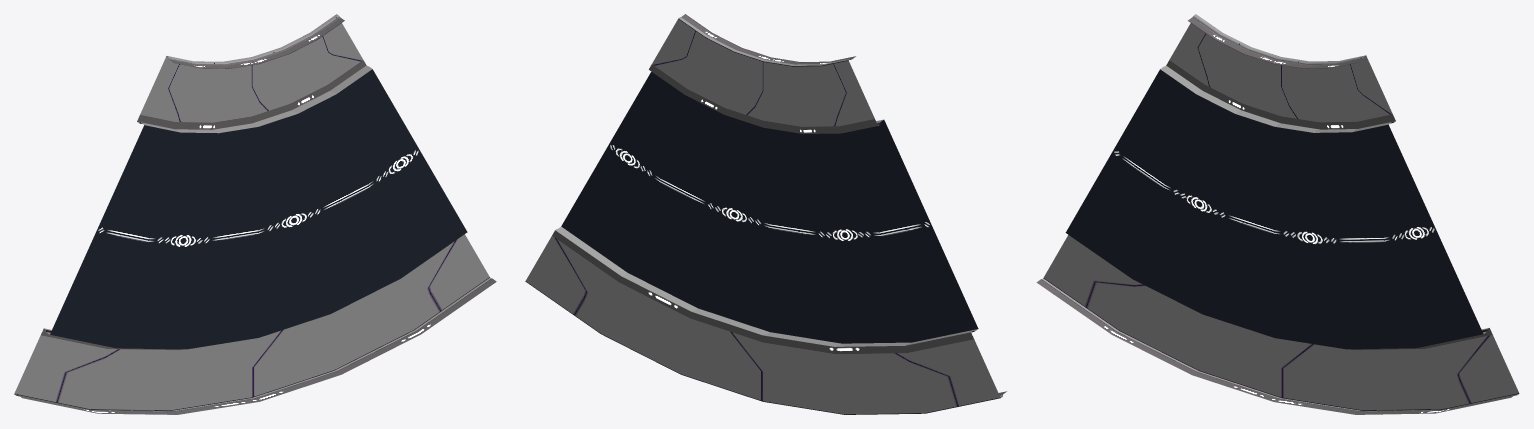
The model's file is SM_S_Road90.fbx.
3 views of the same model, side by side, from view 1: azimuth 30°, elevation 25°; view 2: azimuth 150°, elevation 25°; view 3: azimuth 330°, elevation 25° (orthographic).
Visible parts, largest first — view 1: SM_S_Road90; view 2: SM_S_Road90; view 3: SM_S_Road90.
Part boxes in pixels (x1=…): SM_S_Road90: x1=14, y1=14, x2=496, y2=414; SM_S_Road90: x1=525, y1=14, x2=1006, y2=414; SM_S_Road90: x1=1036, y1=14, x2=1519, y2=414.
Bounding box in the file's own units: 4314 × 3146 × 119.
